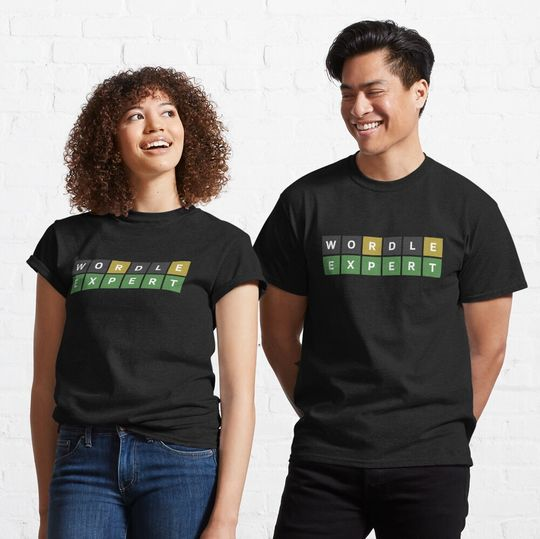design: (319, 232, 445, 281), (67, 255, 194, 298)
